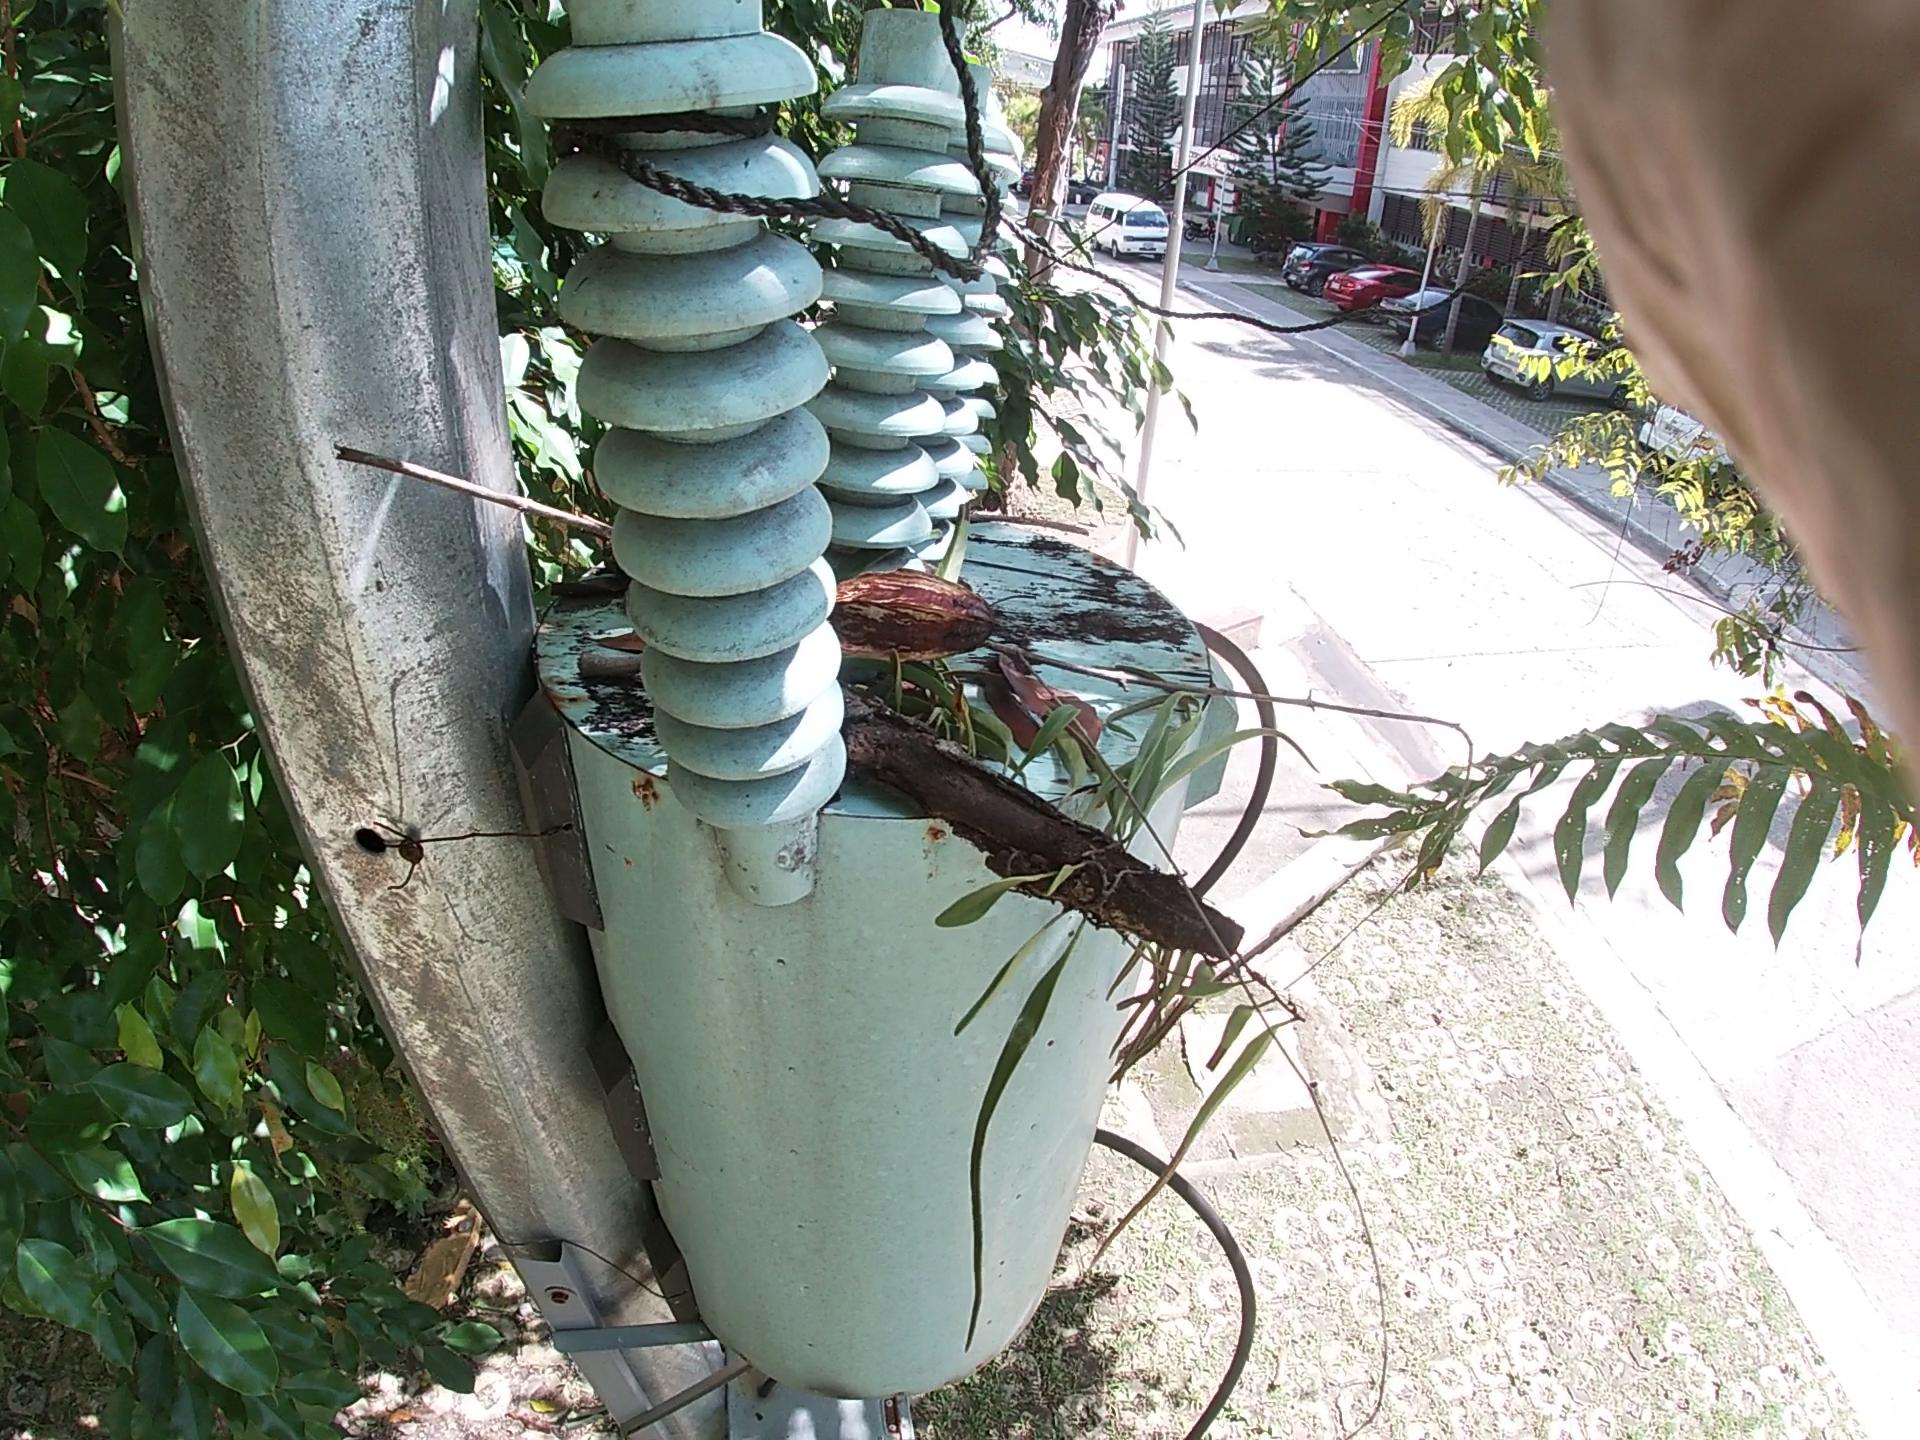branch with leaves: (735, 629, 1299, 1080)
mahogany fruit: (812, 549, 990, 690)
tree branch: (848, 427, 1154, 551), (505, 617, 689, 734), (940, 486, 1132, 564)
